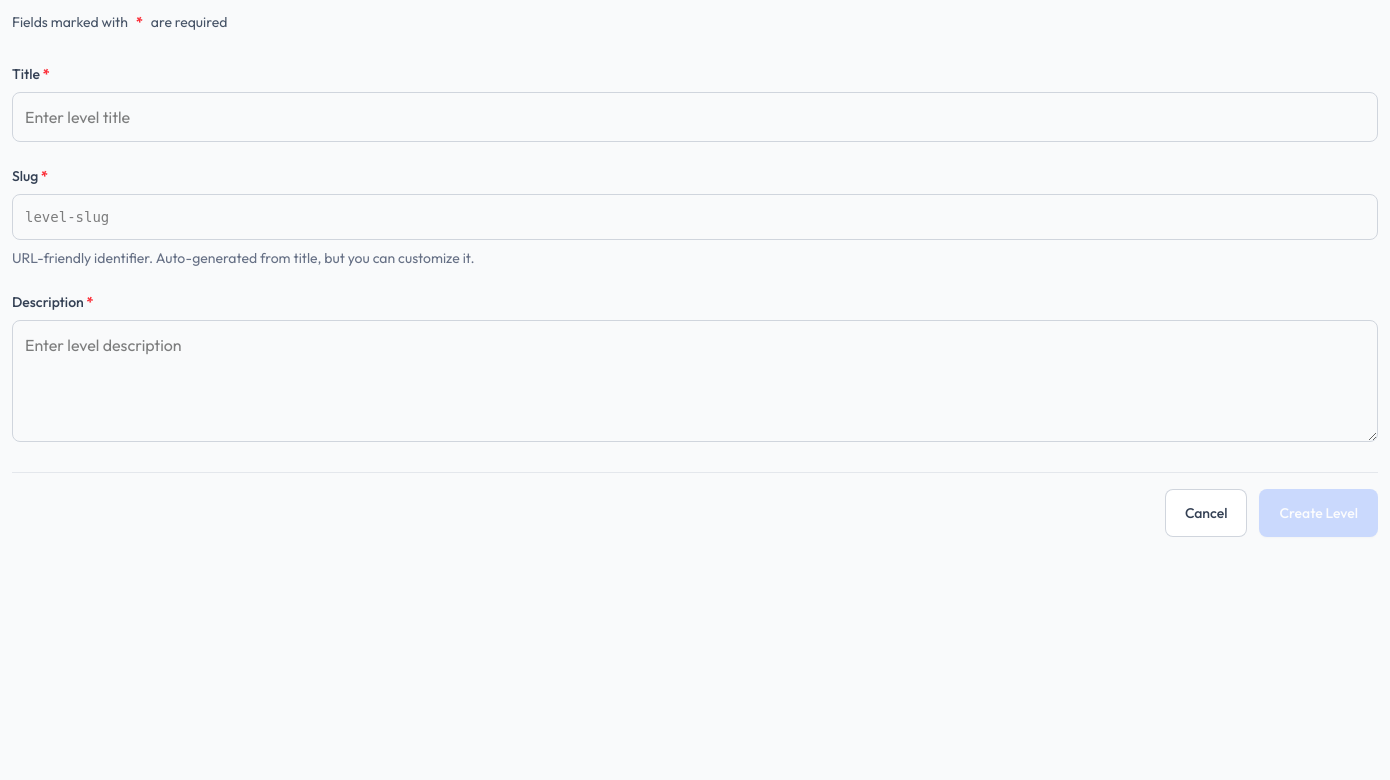
Test case: Form Error Handling › forms handle network errors gracefully
// Fill in valid form data
Type "Test Level" into the field labelled "Title *" at (695, 117), box [12, 92, 1378, 142]
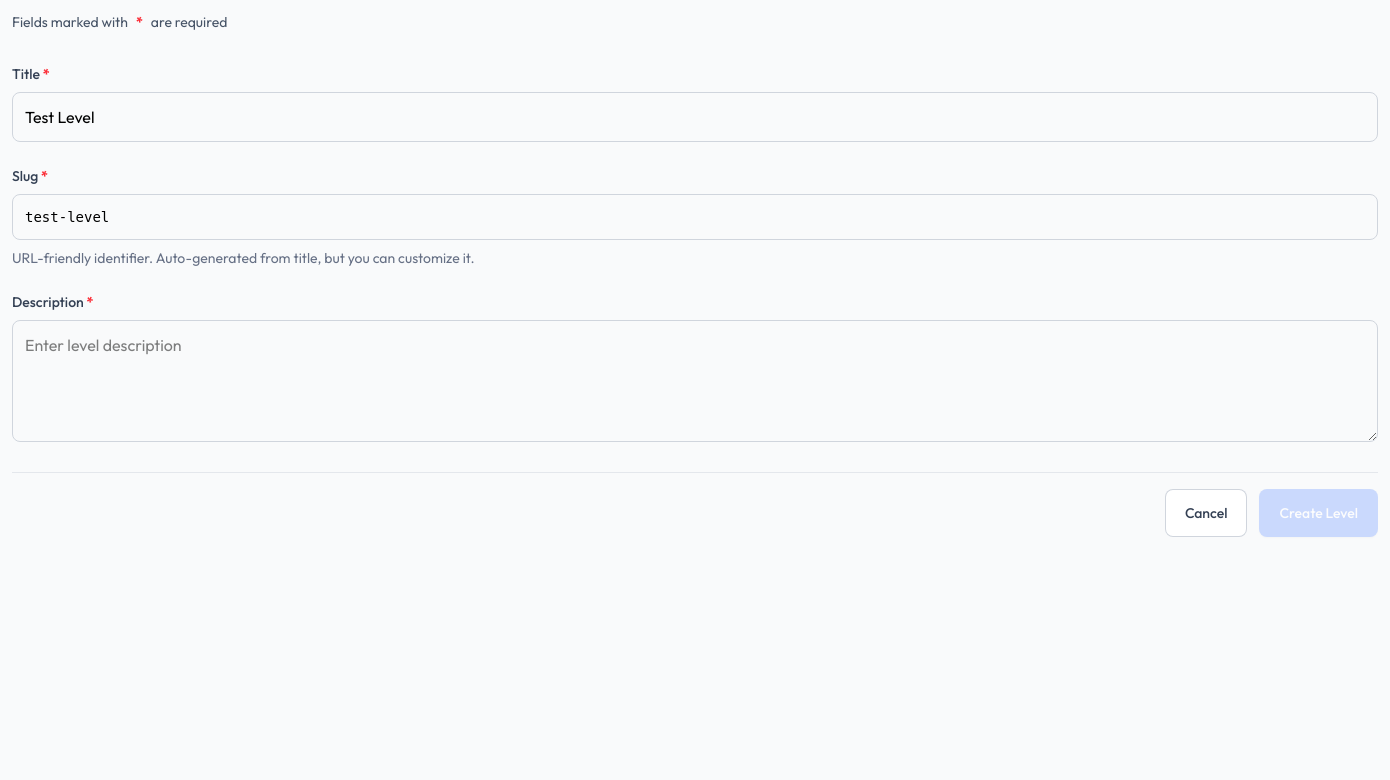
Type "Test description" into the text box labelled "Description *" at (695, 381), box [12, 320, 1378, 442]
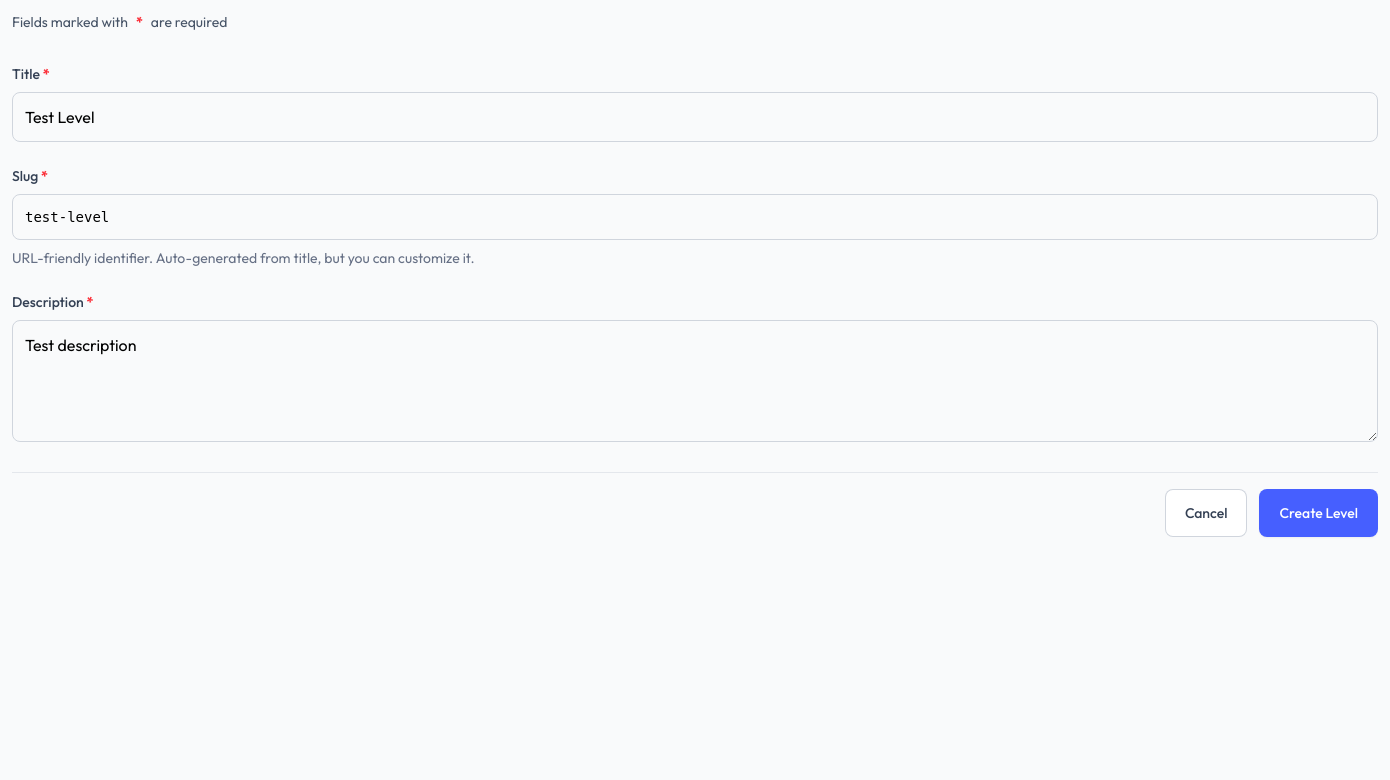
Click the button "Create Level" at (1319, 513), box [1260, 489, 1378, 537]
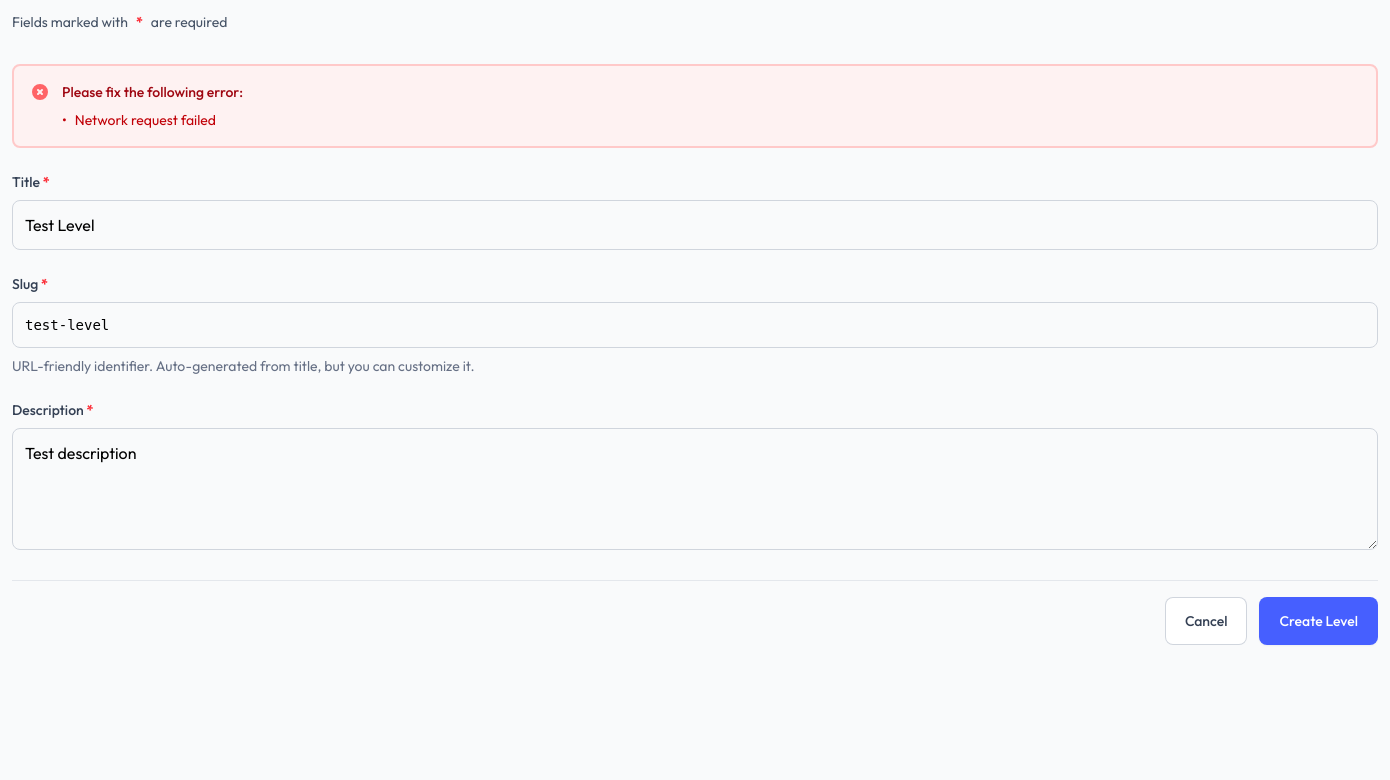
Expected: the text "Network request failed" is shown, [75, 110, 216, 130]
